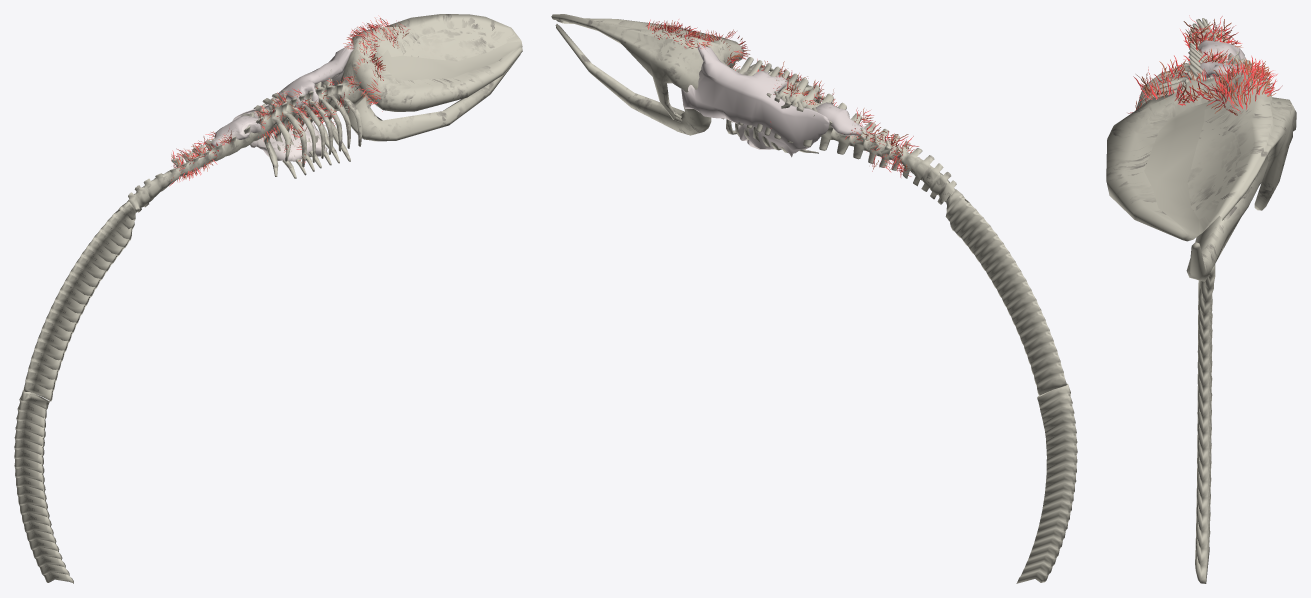
File: whaleSkeletonDream00.fbx
The picture shows the model from 3 angles, left to right: view 1: azimuth 30°, elevation 25°; view 2: azimuth 150°, elevation 25°; view 3: azimuth 270°, elevation 25°; orthographic projection. The views are drawn at different scales.
Parts seen in each view (by area): view 1: bowheadWhaleSkel_pose.012, WhaleFlesh_Body, zombieWorms_body; view 2: bowheadWhaleSkel_pose.012, WhaleFlesh_Body, zombieWorms_body; view 3: bowheadWhaleSkel_pose.012, zombieWorms_body, WhaleFlesh_Body.
Boxes of the visible parts, left/top/right/bottom form: bowheadWhaleSkel_pose.012: left=14, top=14, right=522, bottom=583; WhaleFlesh_Body: left=210, top=42, right=353, bottom=161; zombieWorms_body: left=169, top=15, right=409, bottom=186; bowheadWhaleSkel_pose.012: left=551, top=14, right=1077, bottom=583; WhaleFlesh_Body: left=681, top=44, right=866, bottom=157; zombieWorms_body: left=646, top=19, right=919, bottom=177; bowheadWhaleSkel_pose.012: left=1106, top=18, right=1296, bottom=583; zombieWorms_body: left=1128, top=15, right=1282, bottom=115; WhaleFlesh_Body: left=1198, top=40, right=1271, bottom=93.
Size of the model in its own units: 49.45 by 44.28 by 9.98.
